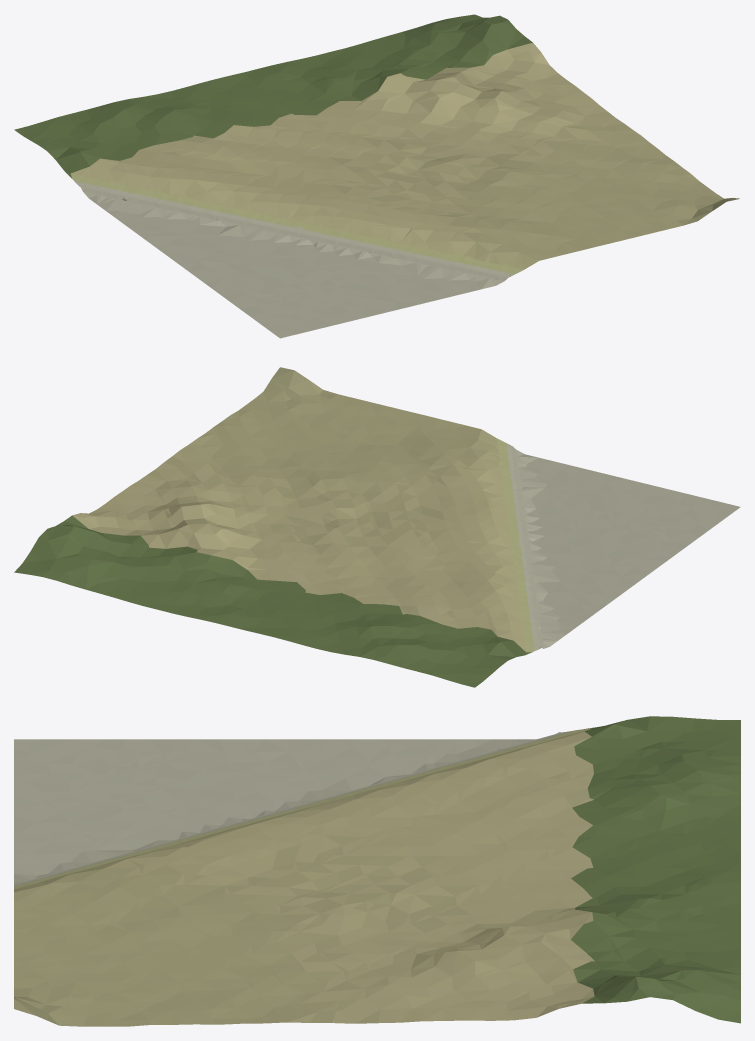
The model's file is Ground_-3_-3.glb.
3 renders of one model, top to bottom at view 1: azimuth 30°, elevation 25°; view 2: azimuth 150°, elevation 25°; view 3: azimuth 270°, elevation 25°, orthographic. The views are drawn at different scales.
Visible parts, largest first — view 1: Ground_-3_-3; view 2: Ground_-3_-3; view 3: Ground_-3_-3.
Boxes of the visible parts, x1=… form: Ground_-3_-3: x1=14, y1=14, x2=739, y2=338; Ground_-3_-3: x1=14, y1=367, x2=740, y2=687; Ground_-3_-3: x1=14, y1=716, x2=740, y2=1026.
Size of the model in its own units: 768 by 63.9 by 768.
